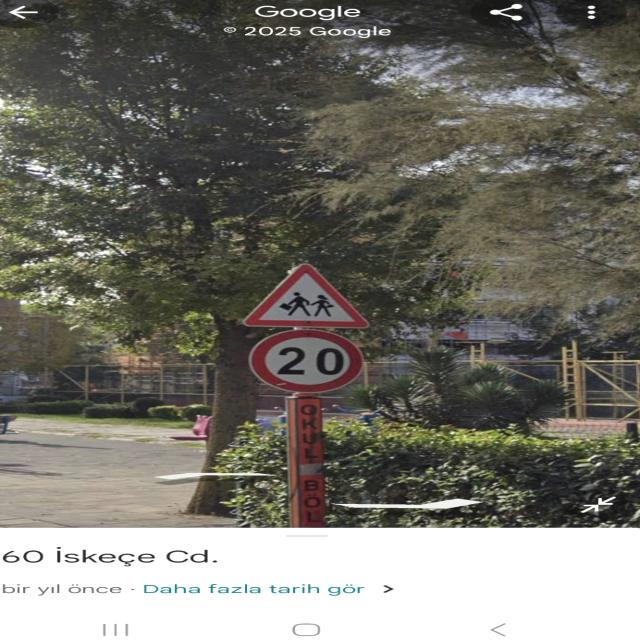okul_gecidi: (242, 262, 372, 328)
